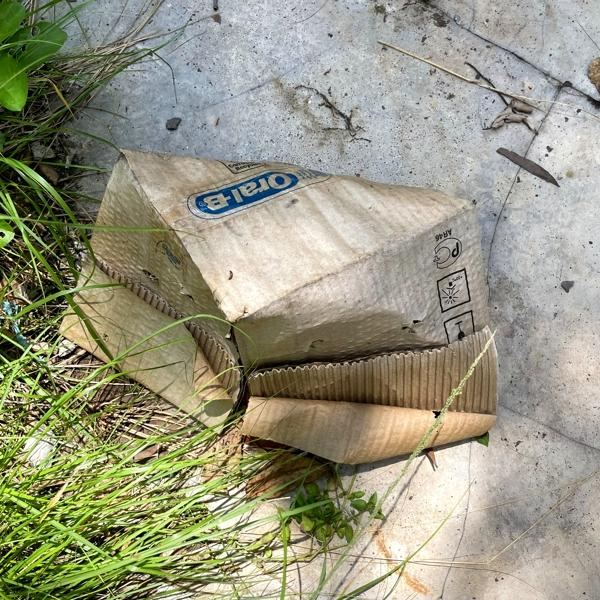Organik: (66, 144, 493, 460)
